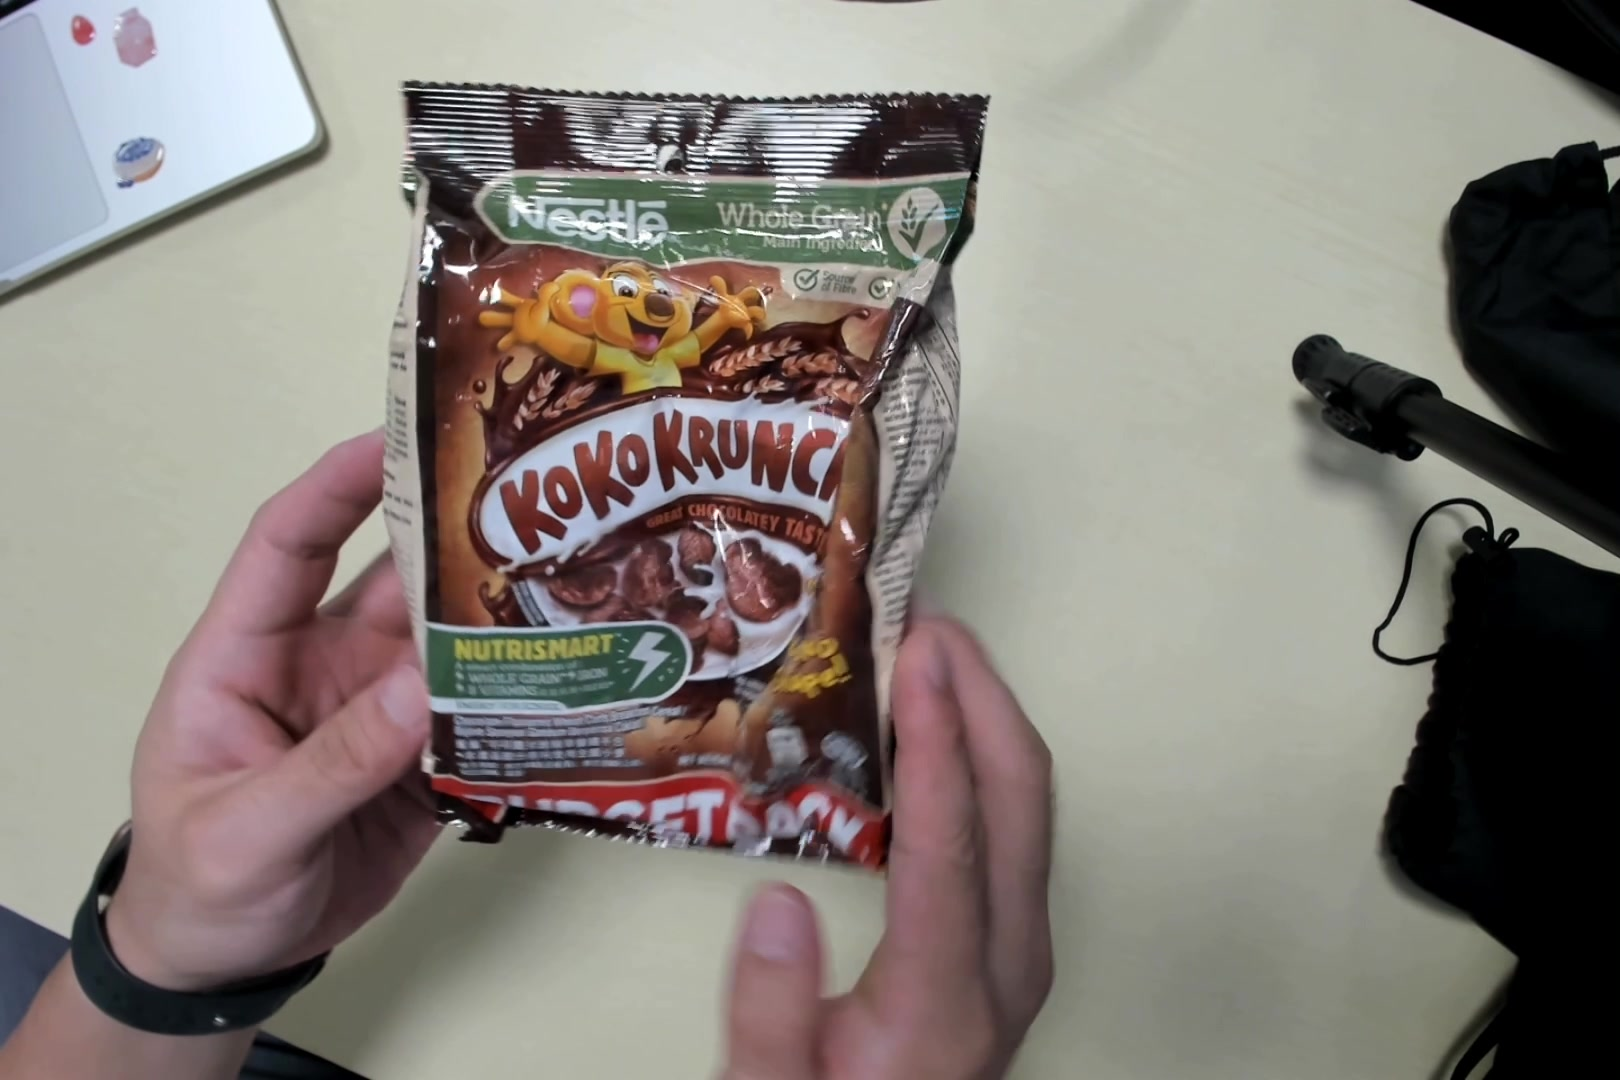BreakfastCereals_0-99g_Halal_NonHealthy: (406, 84, 943, 864)
